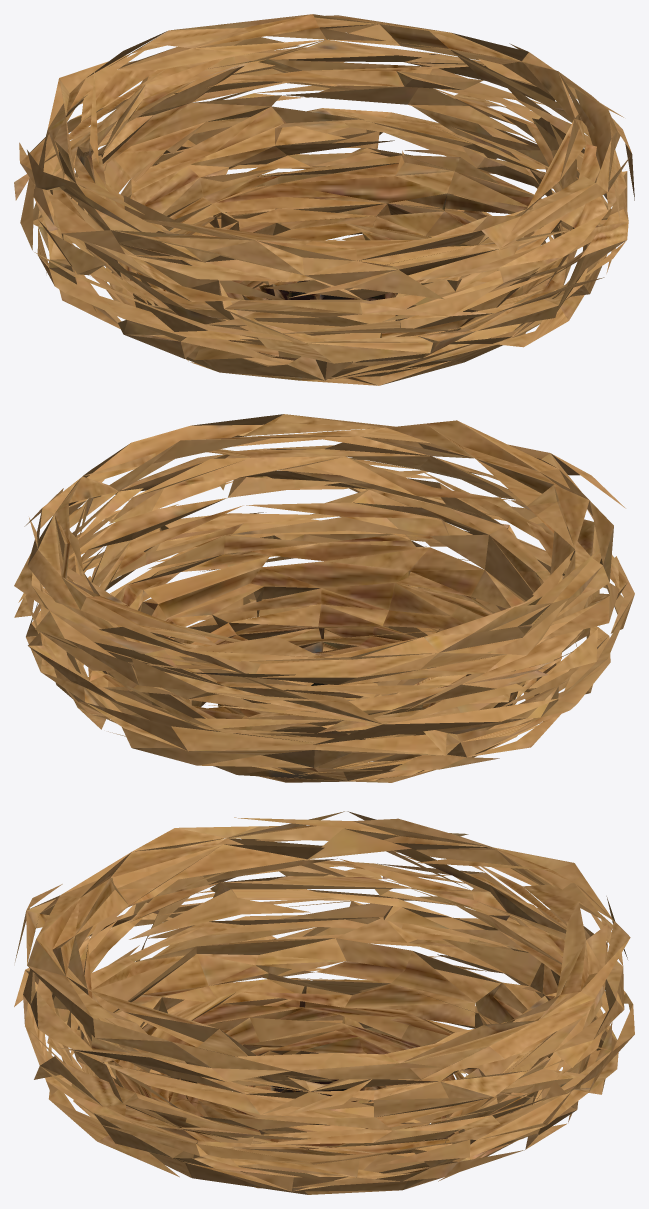
File: nest.glb
3 views of the same model, one above another, from view 1: azimuth 30°, elevation 25°; view 2: azimuth 150°, elevation 25°; view 3: azimuth 270°, elevation 25° (orthographic).
Size of the model in its own units: 1.76 by 0.5684 by 1.68.
1 material, 1 textured.
